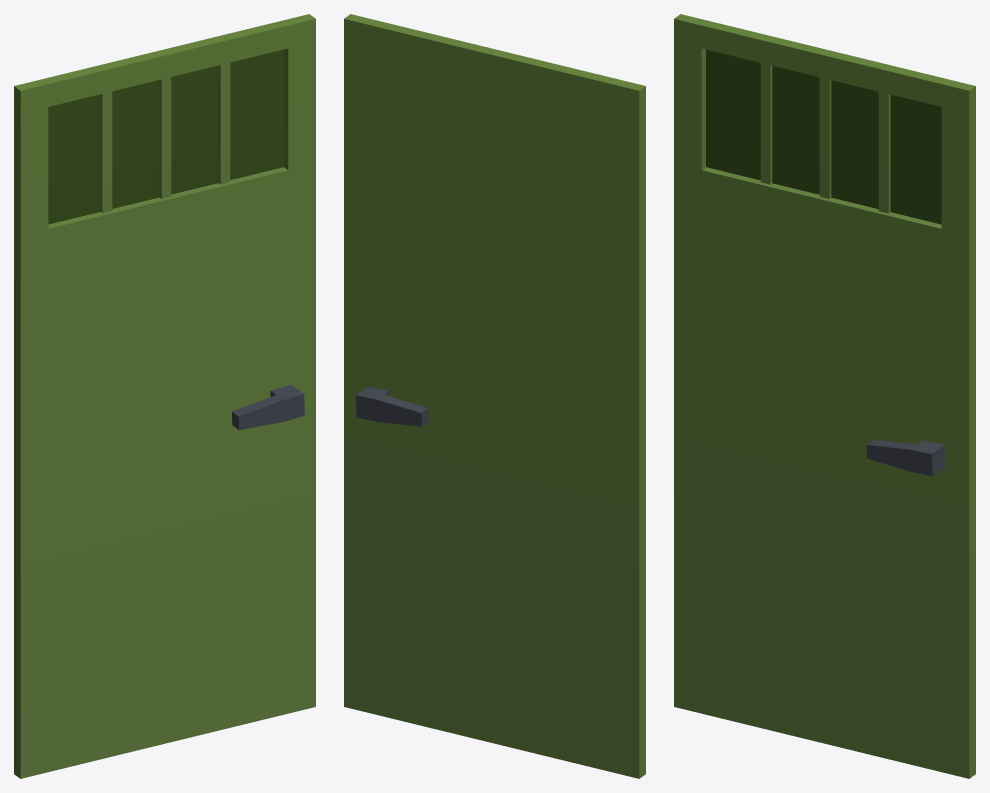
The model's file is House_09_Door01.fbx.
3 views of the same model, side by side, from view 1: azimuth 30°, elevation 25°; view 2: azimuth 150°, elevation 25°; view 3: azimuth 330°, elevation 25° (orthographic).
Parts seen in each view (by area): view 1: House_09_Door01; view 2: House_09_Door01; view 3: House_09_Door01.
Boxes of the visible parts, x1=… form: House_09_Door01: x1=14, y1=14, x2=315, y2=778; House_09_Door01: x1=344, y1=14, x2=645, y2=778; House_09_Door01: x1=674, y1=14, x2=975, y2=778.
Bounding box in the file's own units: 0.9 × 2 × 0.1656.
